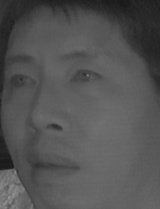eye: (69, 65, 107, 88), (6, 72, 38, 90)
mouth: (23, 148, 82, 185)
